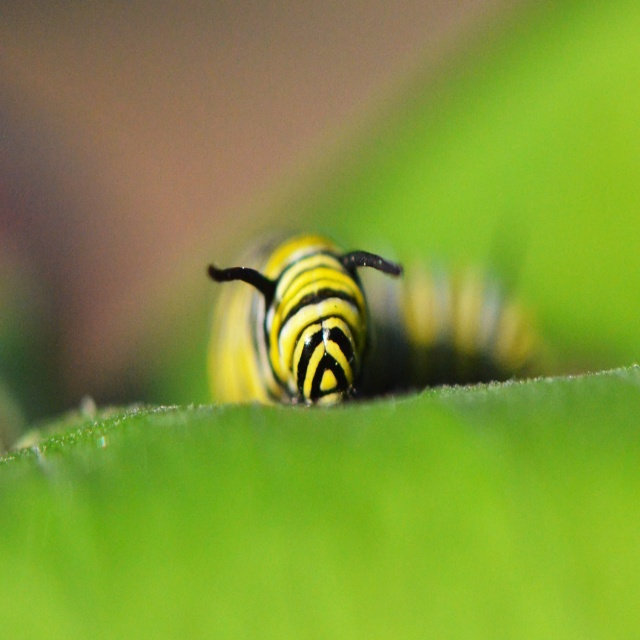Caterpillar: (208, 228, 556, 408)
